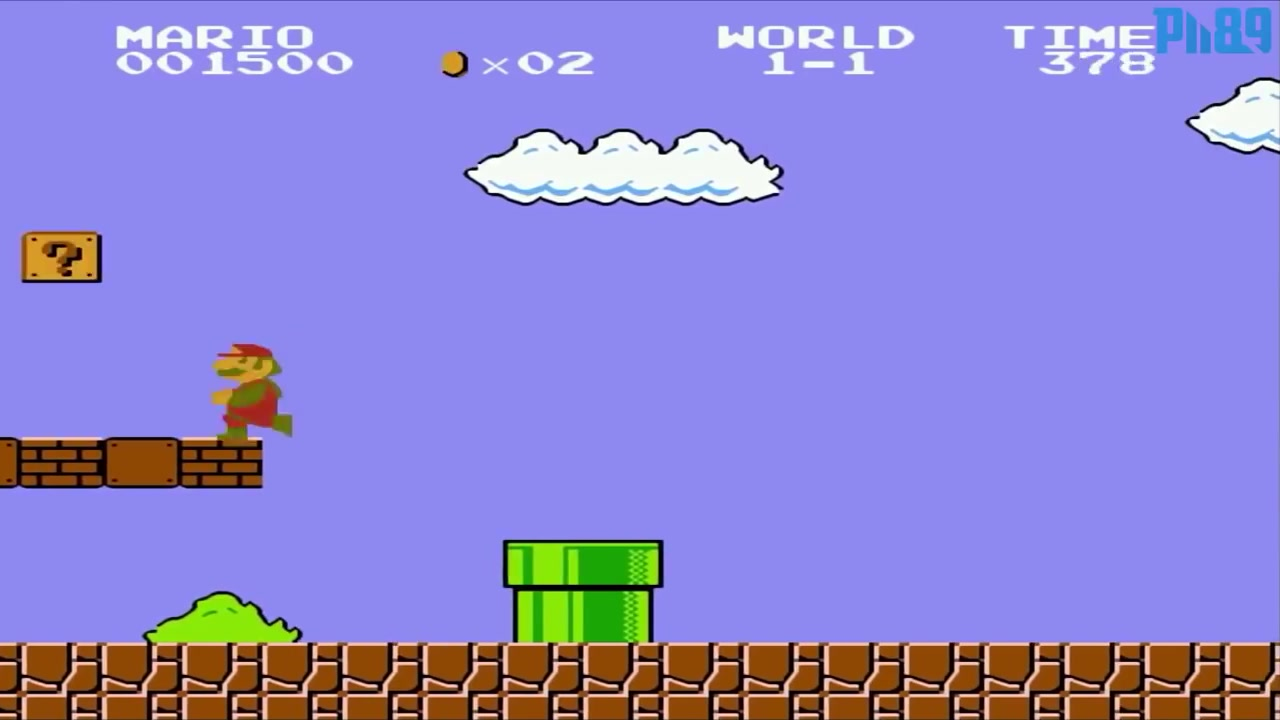mario: (198, 338, 308, 438)
